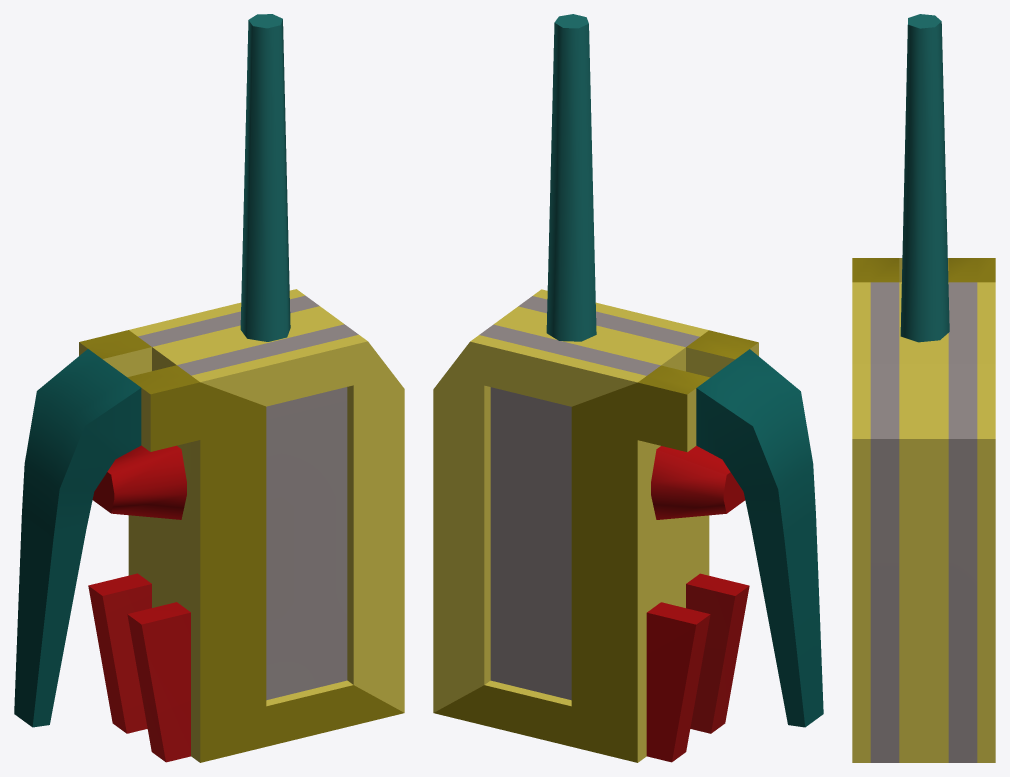
The model's file is detonator.glb.
3 views of the same model, side by side, from view 1: azimuth 30°, elevation 25°; view 2: azimuth 150°, elevation 25°; view 3: azimuth 270°, elevation 25° (orthographic).
Visible parts, largest first — view 1: Ditanator; view 2: Ditanator; view 3: Ditanator.
Boxes of the visible parts, <box> form: Ditanator: <box>14,14,404,762</box>; Ditanator: <box>433,14,823,762</box>; Ditanator: <box>852,14,995,762</box>.
Bounding box in the file's own units: 0.2333 × 0.4457 × 0.0836.
Materials: 1 (1 with a texture image).
